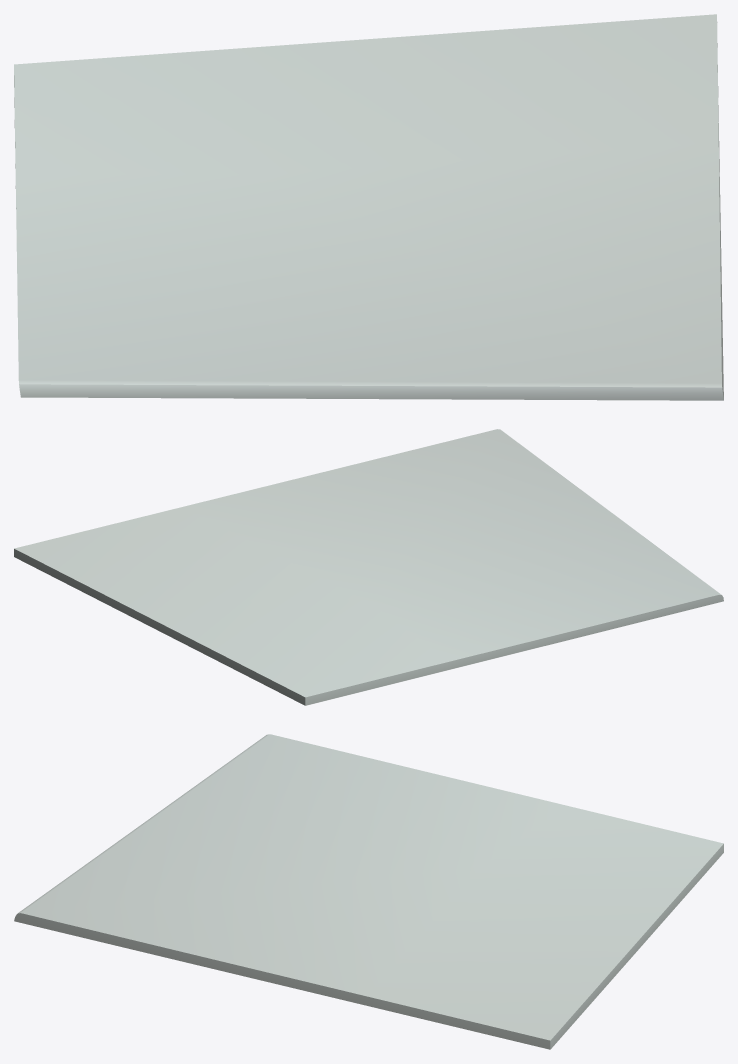
3 views of the same model, one above another, from view 1: azimuth 30°, elevation 25°; view 2: azimuth 150°, elevation 25°; view 3: azimuth 270°, elevation 25° (orthographic). The views are drawn at different scales.
Parts seen in each view (by area): view 1: block_03; view 2: block_03; view 3: block_03.
Part boxes in pixels (x1,y1,x2,y2): block_03: [14, 14, 723, 400]; block_03: [14, 429, 723, 705]; block_03: [14, 734, 723, 1049].
Size of the model in its own units: 10.47 by 0.1499 by 10.23.
1 material, 1 textured.
